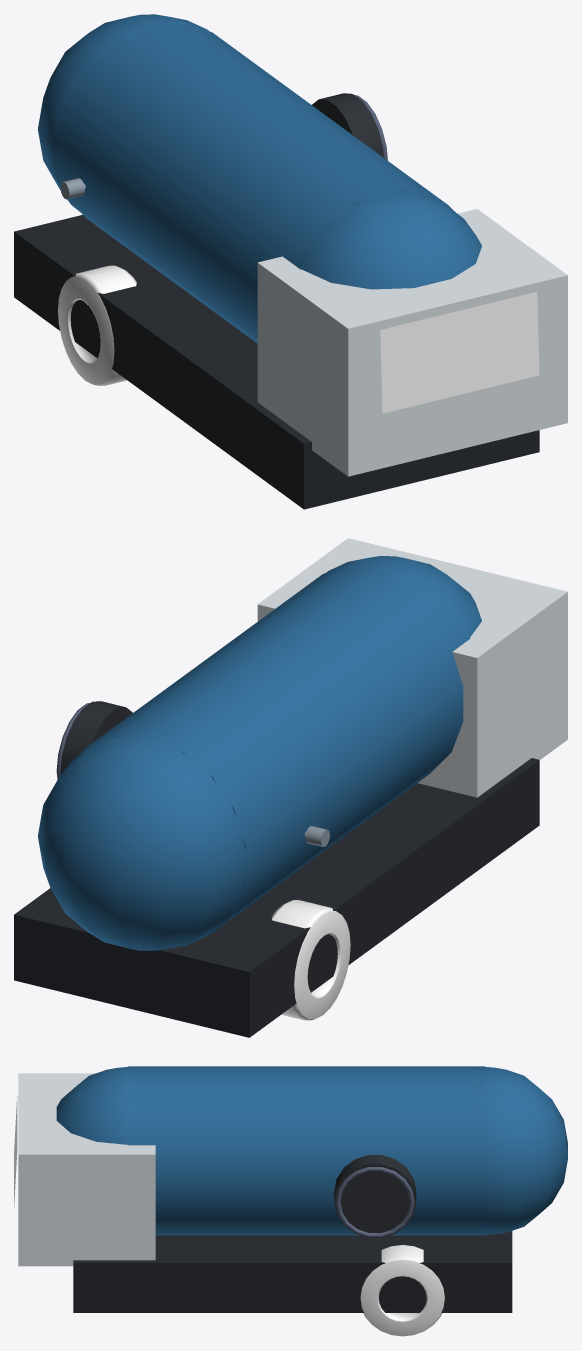
Rendered from equipment--serviceCart.glb.
The picture shows the model from 3 angles, top to bottom: view 1: azimuth 30°, elevation 25°; view 2: azimuth 150°, elevation 25°; view 3: azimuth 270°, elevation 25°; orthographic projection. The views are drawn at different scales.
Parts seen in each view (by area): view 1: serviceCart:shell, wheels, hoseReel; view 2: serviceCart:shell, wheels, hoseReel; view 3: serviceCart:shell, hoseReel, wheels.
Boxes of the visible parts, box(x1,y1,x2,y2) form: serviceCart:shell: box(14, 14, 567, 509); wheels: box(58, 265, 136, 385); hoseReel: box(312, 93, 387, 160); serviceCart:shell: box(14, 538, 567, 1037); wheels: box(271, 900, 350, 1020); hoseReel: box(56, 701, 132, 779); serviceCart:shell: box(14, 1066, 567, 1312); hoseReel: box(334, 1155, 416, 1237); wheels: box(360, 1245, 444, 1336).
Size of the model in its own units: 1.73 by 1.77 by 4.04.
